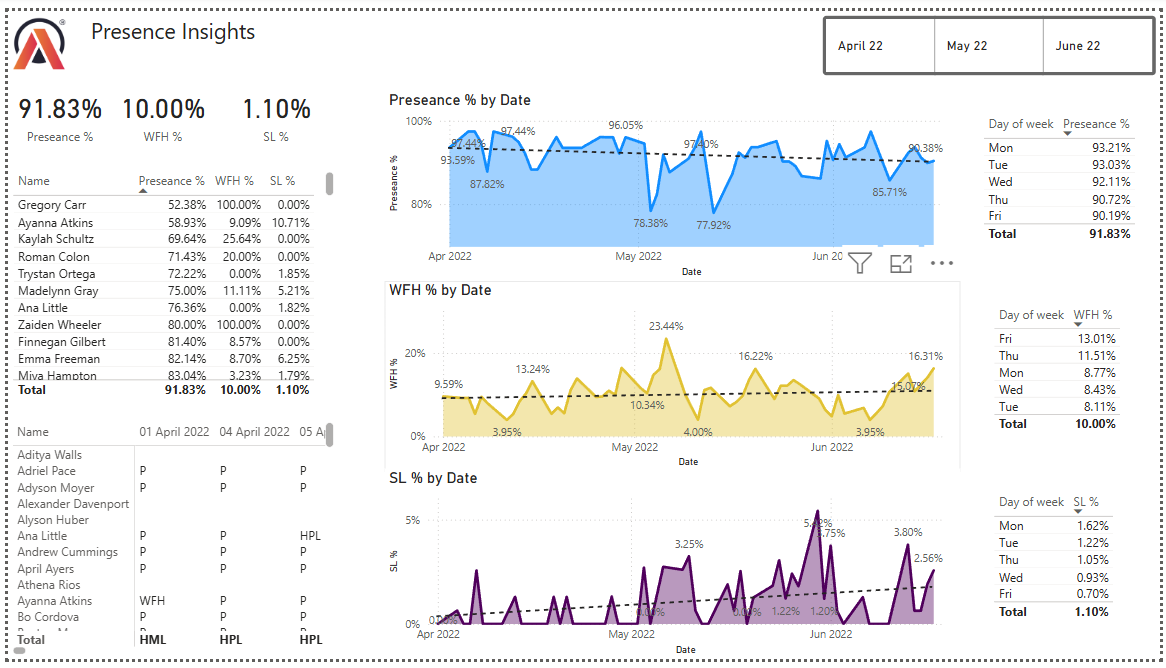

What the dashboard file says about the page in this screenshot:
{"tool":"powerbi","page":{"name":"Presence Insights","canvas":[1280,720],"ordinal":0},"visuals":[{"type":"card","fields":{"Values":["Measure Table.Preseance %"]},"box":[0,76.7,115,76.7],"z":0},{"type":"advancedSlicerVisual","title":"Month","fields":{"Values":["Final Data.Month"]},"box":[900,0,380,76.7],"z":1000},{"type":"card","fields":{"Values":["Measure Table.WFH %"]},"box":[115,76.7,113.3,76.7],"z":2000},{"type":"card","fields":{"Values":["Measure Table.SL %"]},"box":[228.3,76.7,138.3,76.7],"z":3000},{"type":"tableEx","fields":{"Values":["Final Data.Name","Measure Table.Preseance %","Measure Table.WFH %","Measure Table.SL %"]},"box":[0,173.3,366.7,260],"z":4000},{"type":"textbox","box":[0,0,366.7,50],"z":5000},{"type":"pivotTable","fields":{"Rows":["Final Data.Name"],"Values":["Min(Final Data.Value)"],"Columns":["Final Data.Date"]},"box":[0,451.7,366.7,268.3],"z":6000},{"type":"areaChart","fields":{"Y":["Measure Table.Preseance %"],"Category":["Final Data.Date"]},"box":[418.3,88.3,640,211.7],"z":7000},{"type":"areaChart","fields":{"Y":["Measure Table.WFH %"],"Category":["Final Data.Date"]},"box":[418.3,300,640,211.7],"z":8000},{"type":"areaChart","fields":{"Y":["Measure Table.SL %"],"Category":["Final Data.Date"]},"box":[418.3,508.3,640,211.7],"z":9000},{"type":"tableEx","fields":{"Values":["Final Data.Day of week","Measure Table.Preseance %"]},"box":[1078.3,110,185,170],"z":10000},{"type":"tableEx","fields":{"Values":["Final Data.Day of week","Measure Table.WFH %"]},"box":[1090,321.7,185,170],"z":11000},{"type":"tableEx","fields":{"Values":["Final Data.Day of week","Measure Table.SL %"]},"box":[1090,530,185,170],"z":12000},{"type":"image","box":[0,0,70,71.7],"z":12001}]}

Visuals, with their boxes in screenshot pixels (x1, y1, x2, y2), scaled from the page's 1280x720 canvas onto the 1166x668 screenshot:
card - Measure Table.Preseance %: pyautogui.locateOnScreen(0, 71, 105, 142)
"Month" advancedSlicerVisual: pyautogui.locateOnScreen(820, 0, 1165, 71)
card - Measure Table.WFH %: pyautogui.locateOnScreen(105, 71, 208, 142)
card - Measure Table.SL %: pyautogui.locateOnScreen(208, 71, 334, 142)
tableEx - Final Data.Name x Measure Table.Preseance %: pyautogui.locateOnScreen(0, 161, 334, 402)
textbox: pyautogui.locateOnScreen(0, 0, 334, 46)
pivotTable - Final Data.Name x Min(Final Data.Value): pyautogui.locateOnScreen(0, 419, 334, 667)
areaChart - Measure Table.Preseance % x Final Data.Date: pyautogui.locateOnScreen(381, 82, 964, 278)
areaChart - Measure Table.WFH % x Final Data.Date: pyautogui.locateOnScreen(381, 278, 964, 475)
areaChart - Measure Table.SL % x Final Data.Date: pyautogui.locateOnScreen(381, 472, 964, 667)
tableEx - Final Data.Day of week x Measure Table.Preseance %: pyautogui.locateOnScreen(982, 102, 1151, 260)
tableEx - Final Data.Day of week x Measure Table.WFH %: pyautogui.locateOnScreen(993, 298, 1161, 456)
tableEx - Final Data.Day of week x Measure Table.SL %: pyautogui.locateOnScreen(993, 492, 1161, 649)
image: pyautogui.locateOnScreen(0, 0, 64, 67)
